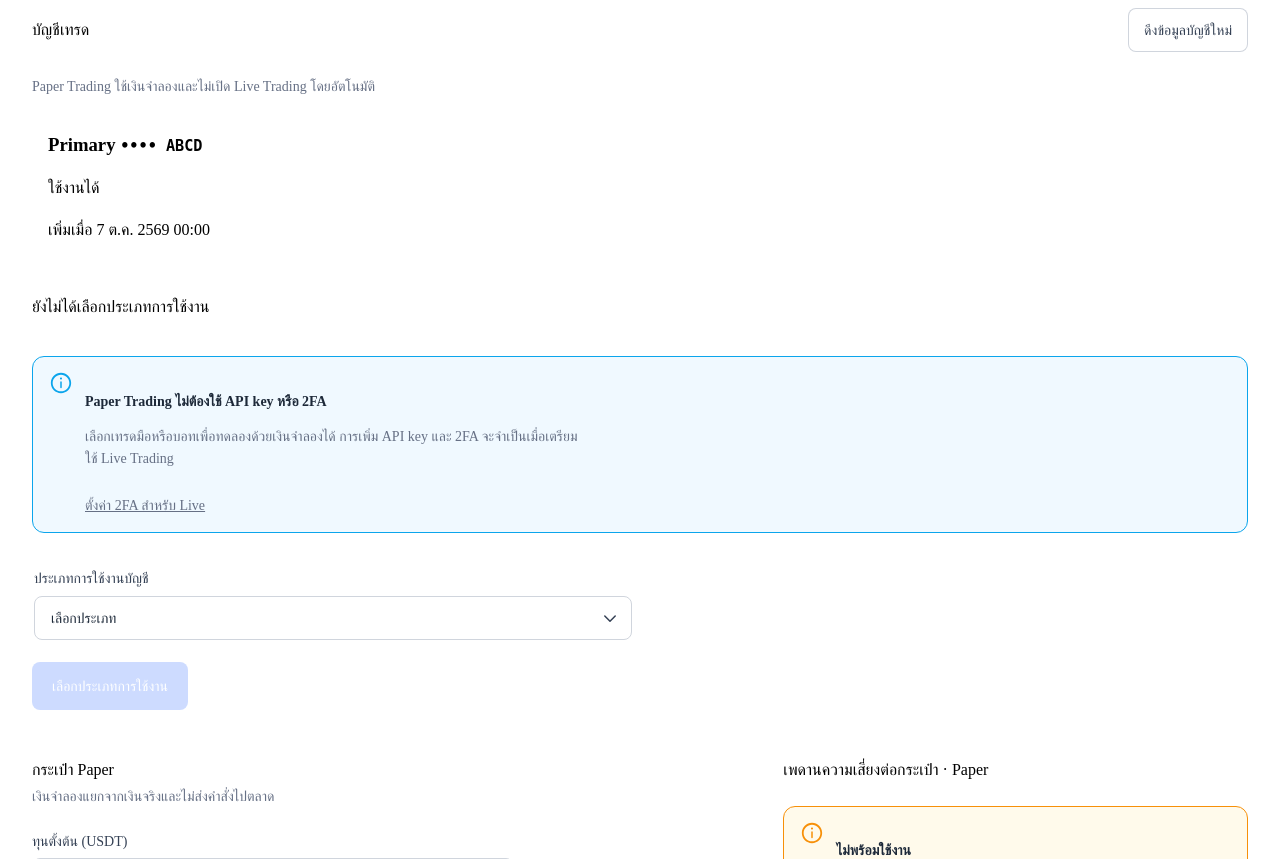
Test case: selects MANUAL with CSRF, no TOTP and refetches server choice
The image size is (1280, 859).
Expected: the text "ยังไม่ได้เลือกประเภทการใช้งาน" is shown, [32,298,209,315]
Select "เทรดมือ" in the dropdown labelled "ประเภทการใช้งานบัญชี" at (333, 618), box [34,596,632,640]
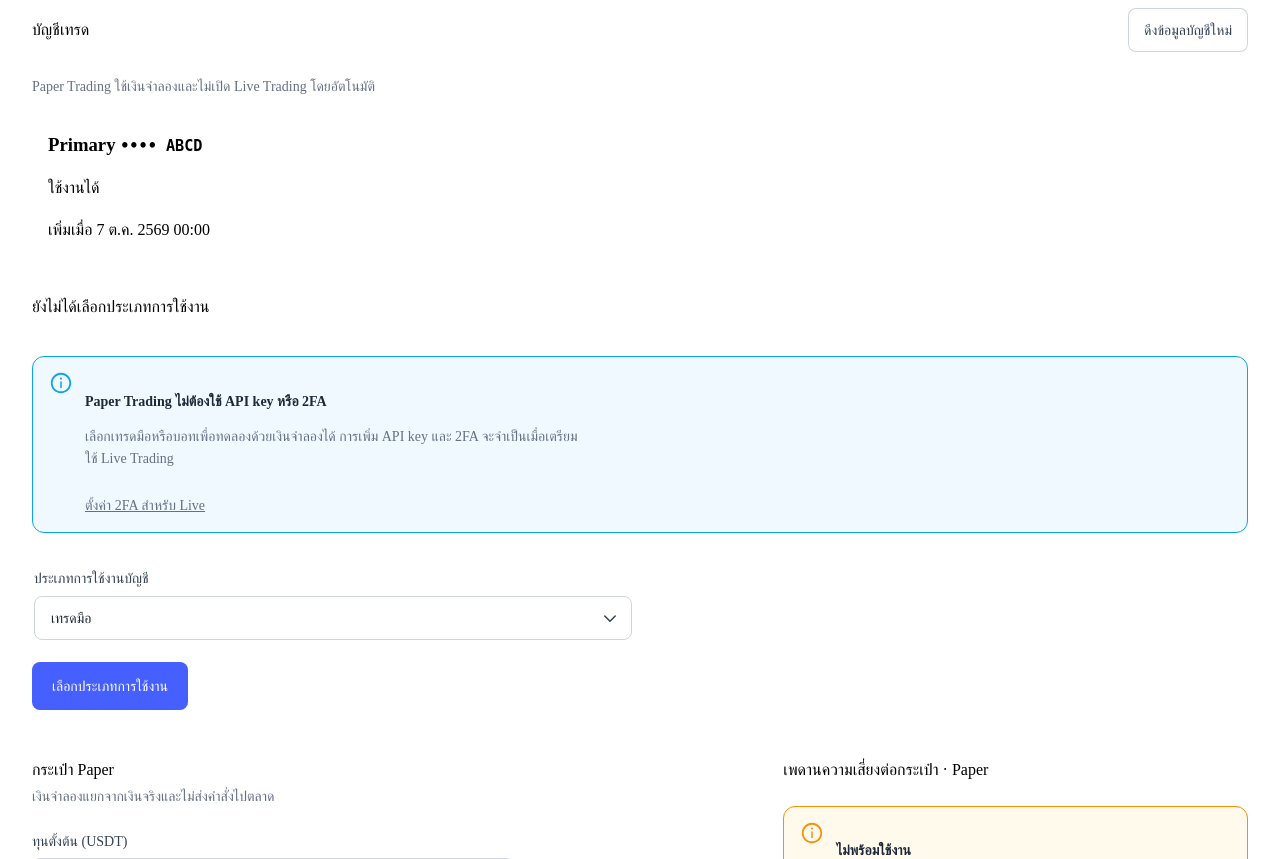
Click the button "เลือกประเภทการใช้งาน" at (110, 686), box [32,662,188,710]
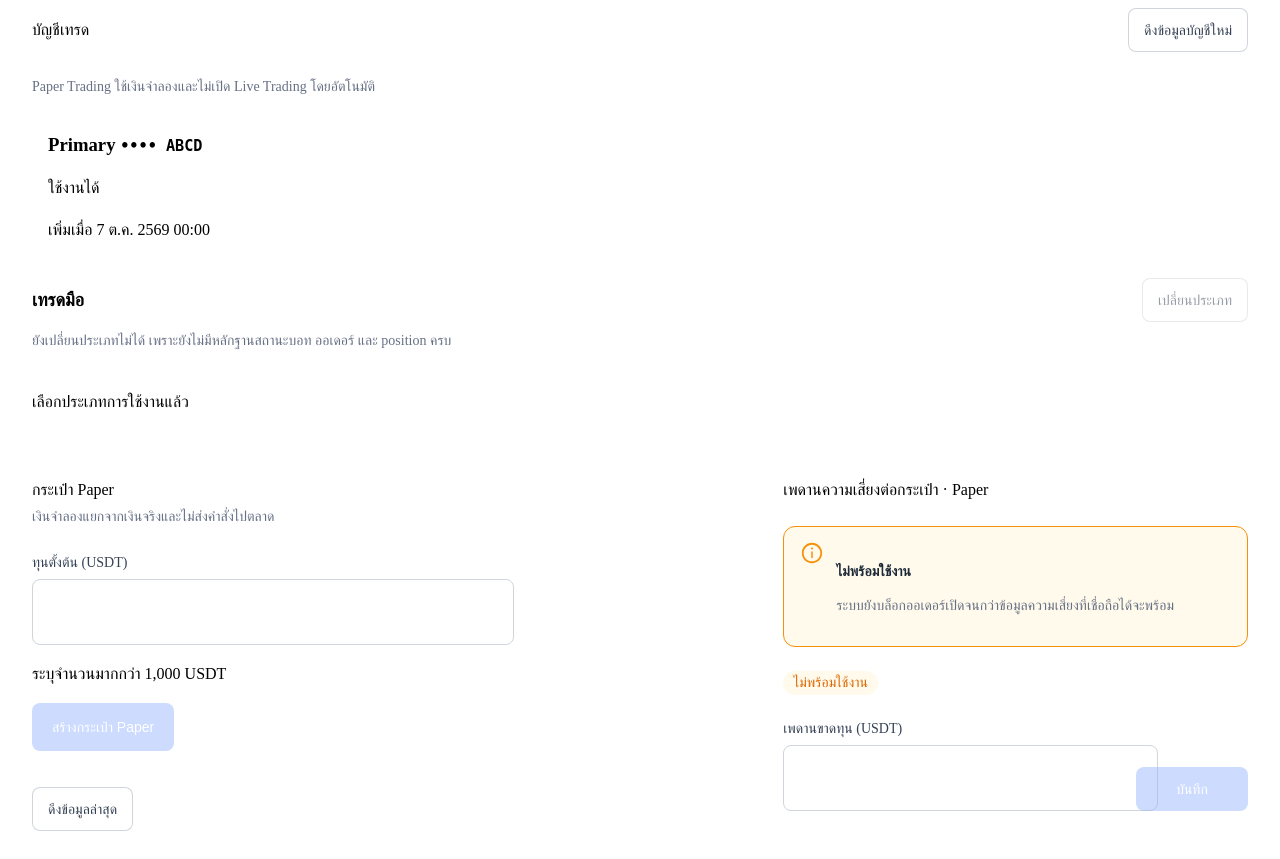
Expected: the heading "เทรดมือ" is shown, [32,290,84,310]
Expected: the text "เลือกประเภทการใช้งานแล้ว" is shown, [32,393,189,410]
Expected: the button "เปลี่ยนประเภท" is disabled, [1142,278,1248,322]
